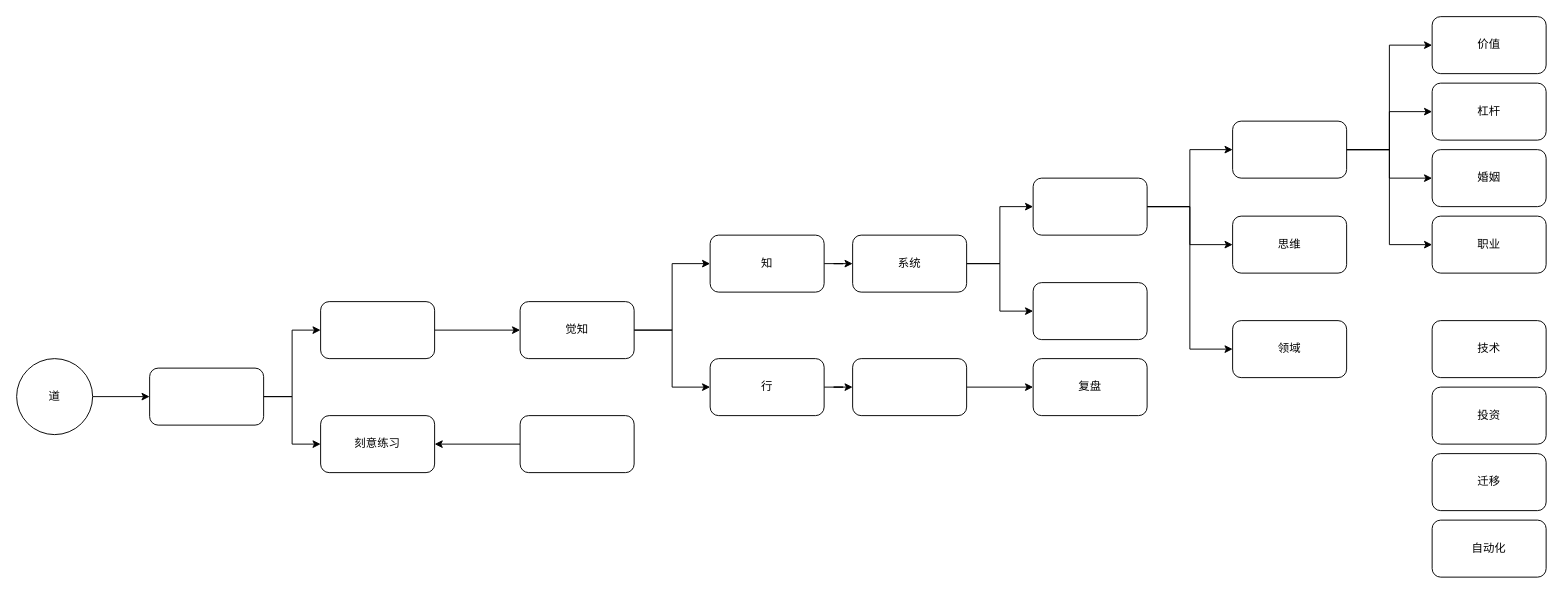
The diagram is 1563 pixels wide and 594 high, and some of its shapes have lost their labels. The centre of each missing label's shape, as x and y in pixels:
实践: the point at 909,387
时间: the point at 576,444
框架: the point at 1089,206
潜意识: the point at 377,330
细节: the point at 1089,311
规律: the point at 206,396
认知: the point at 1289,149
